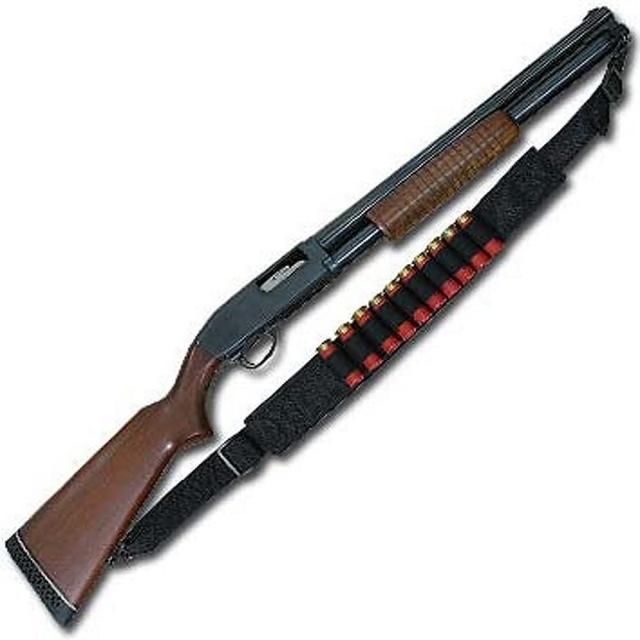sword: (3, 10, 635, 634)
